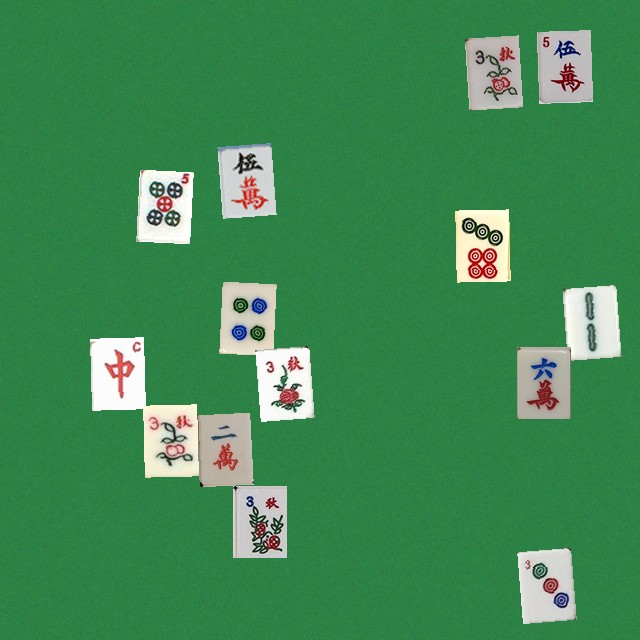tile: (219, 281, 273, 353), (536, 30, 590, 102), (255, 346, 309, 418), (562, 285, 616, 357), (136, 169, 190, 241), (196, 412, 250, 484), (90, 337, 144, 409), (232, 485, 286, 557), (464, 35, 518, 107), (143, 404, 197, 476), (217, 143, 271, 215), (517, 547, 571, 619), (516, 346, 570, 418), (455, 209, 509, 281)
